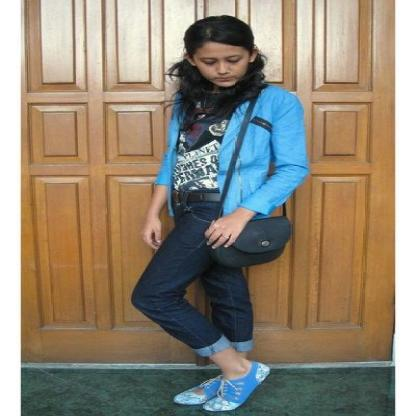bag: (199, 210, 293, 265)
jacket: (155, 86, 308, 215)
pants: (131, 198, 253, 349)
shirt: (175, 114, 230, 188)
shoe: (174, 362, 269, 410)
